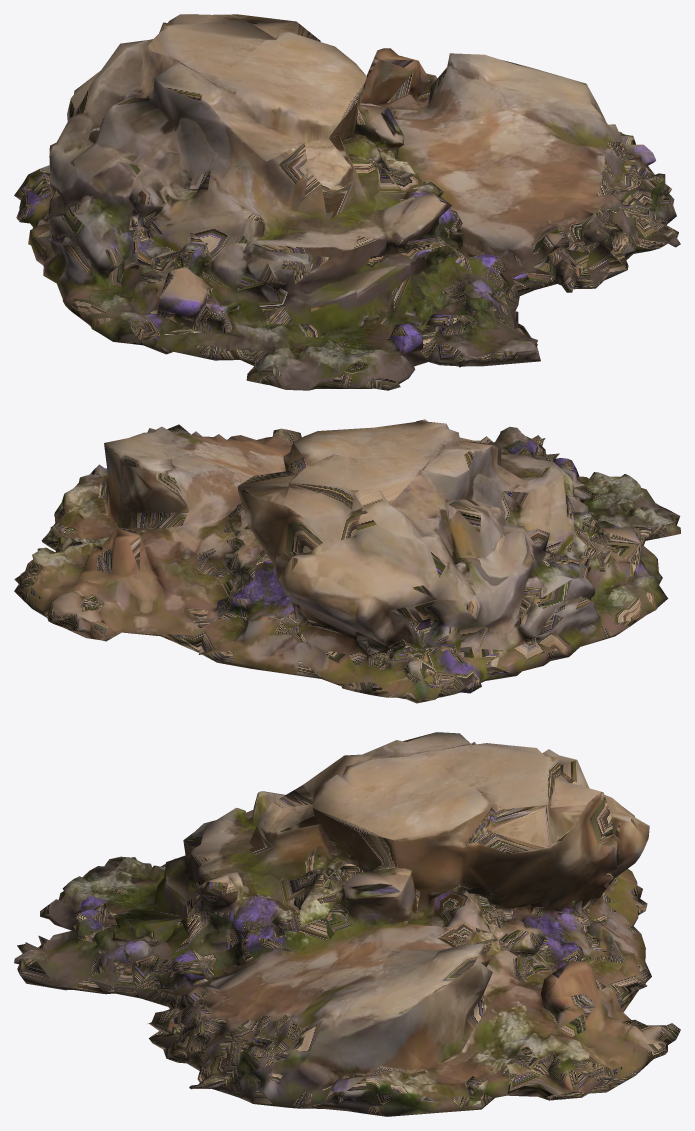
File: Meadow_Rocks.glb
3 views of the same model, one above another, from view 1: azimuth 30°, elevation 25°; view 2: azimuth 150°, elevation 25°; view 3: azimuth 270°, elevation 25° (orthographic). The views are drawn at different scales.
Visible parts, largest first — view 1: Meadow_Rocks; view 2: Meadow_Rocks; view 3: Meadow_Rocks.
Boxes of the visible parts, x1,y1,x2,y2 form: Meadow_Rocks: (14,14,680,390); Meadow_Rocks: (14,419,680,703); Meadow_Rocks: (14,732,680,1116).
Size of the model in its own units: 1.99 by 0.5746 by 1.96.
Materials: 1 (1 with a texture image).
